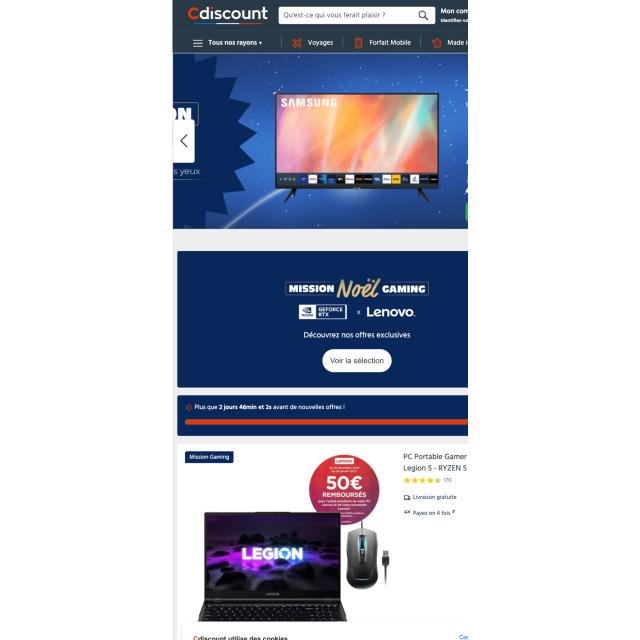logo: (184, 5, 270, 26)
navigation: (190, 38, 264, 49)
